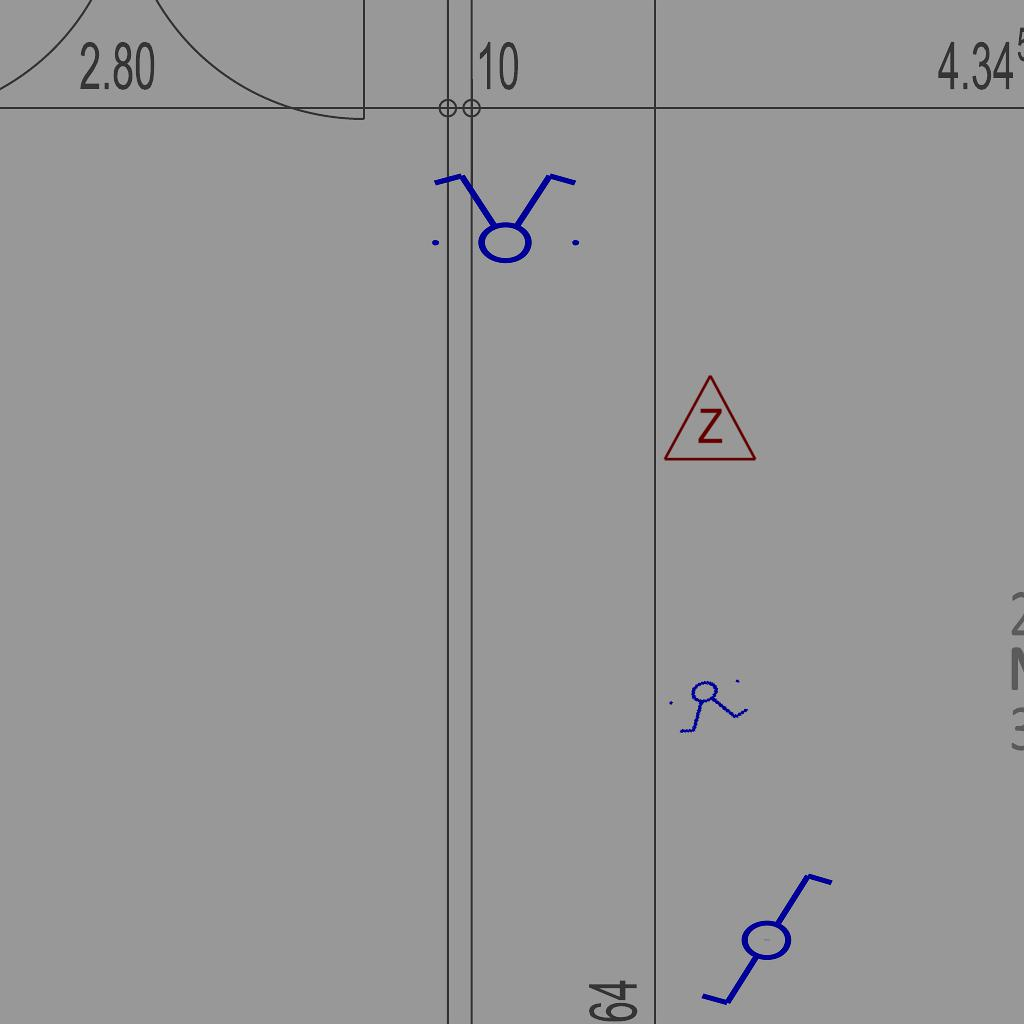Serienschalter: (420, 169, 588, 265), (661, 668, 757, 740)
Wechselschalter: (680, 866, 837, 1010)
Zimmersignalleuchte: (660, 368, 758, 468)
